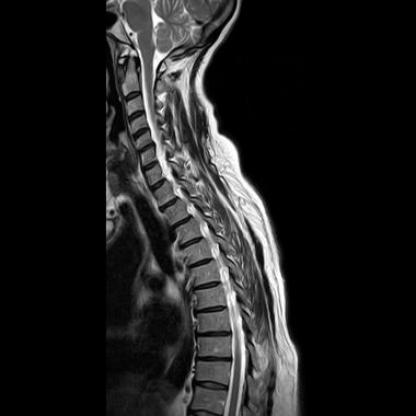Disc Bulgerotation: (133, 136, 160, 157)
